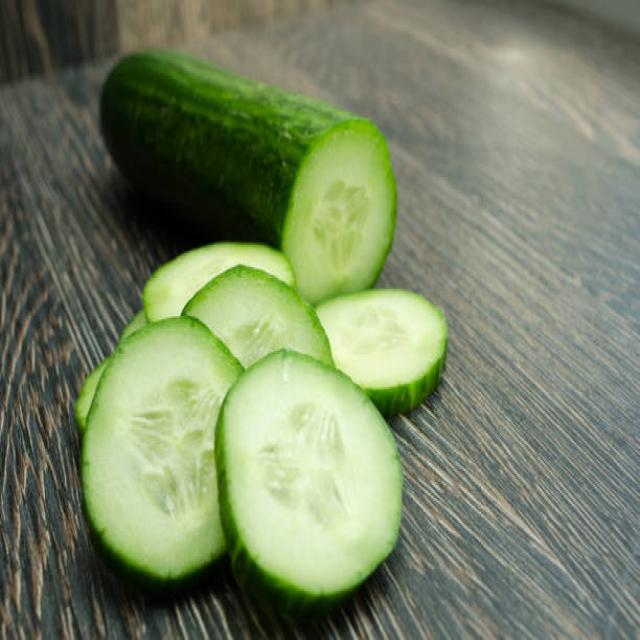cucumber: (99, 46, 394, 298)
